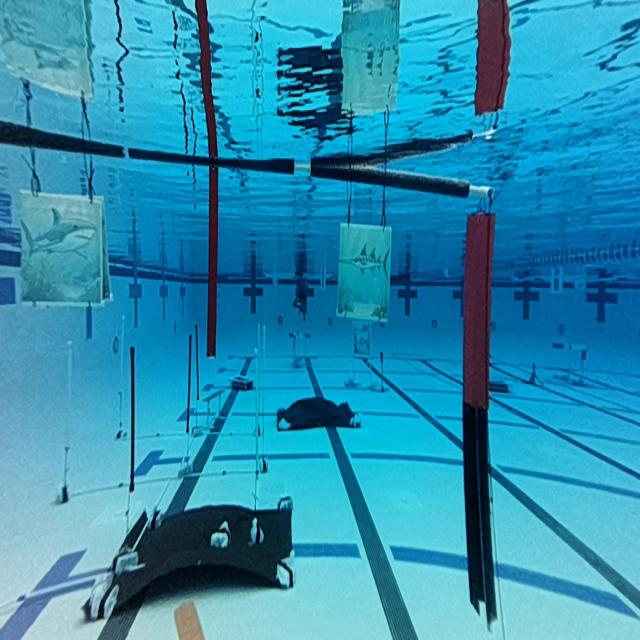pointed_nose: (339, 221, 396, 320)
round_nose: (19, 182, 109, 309)
